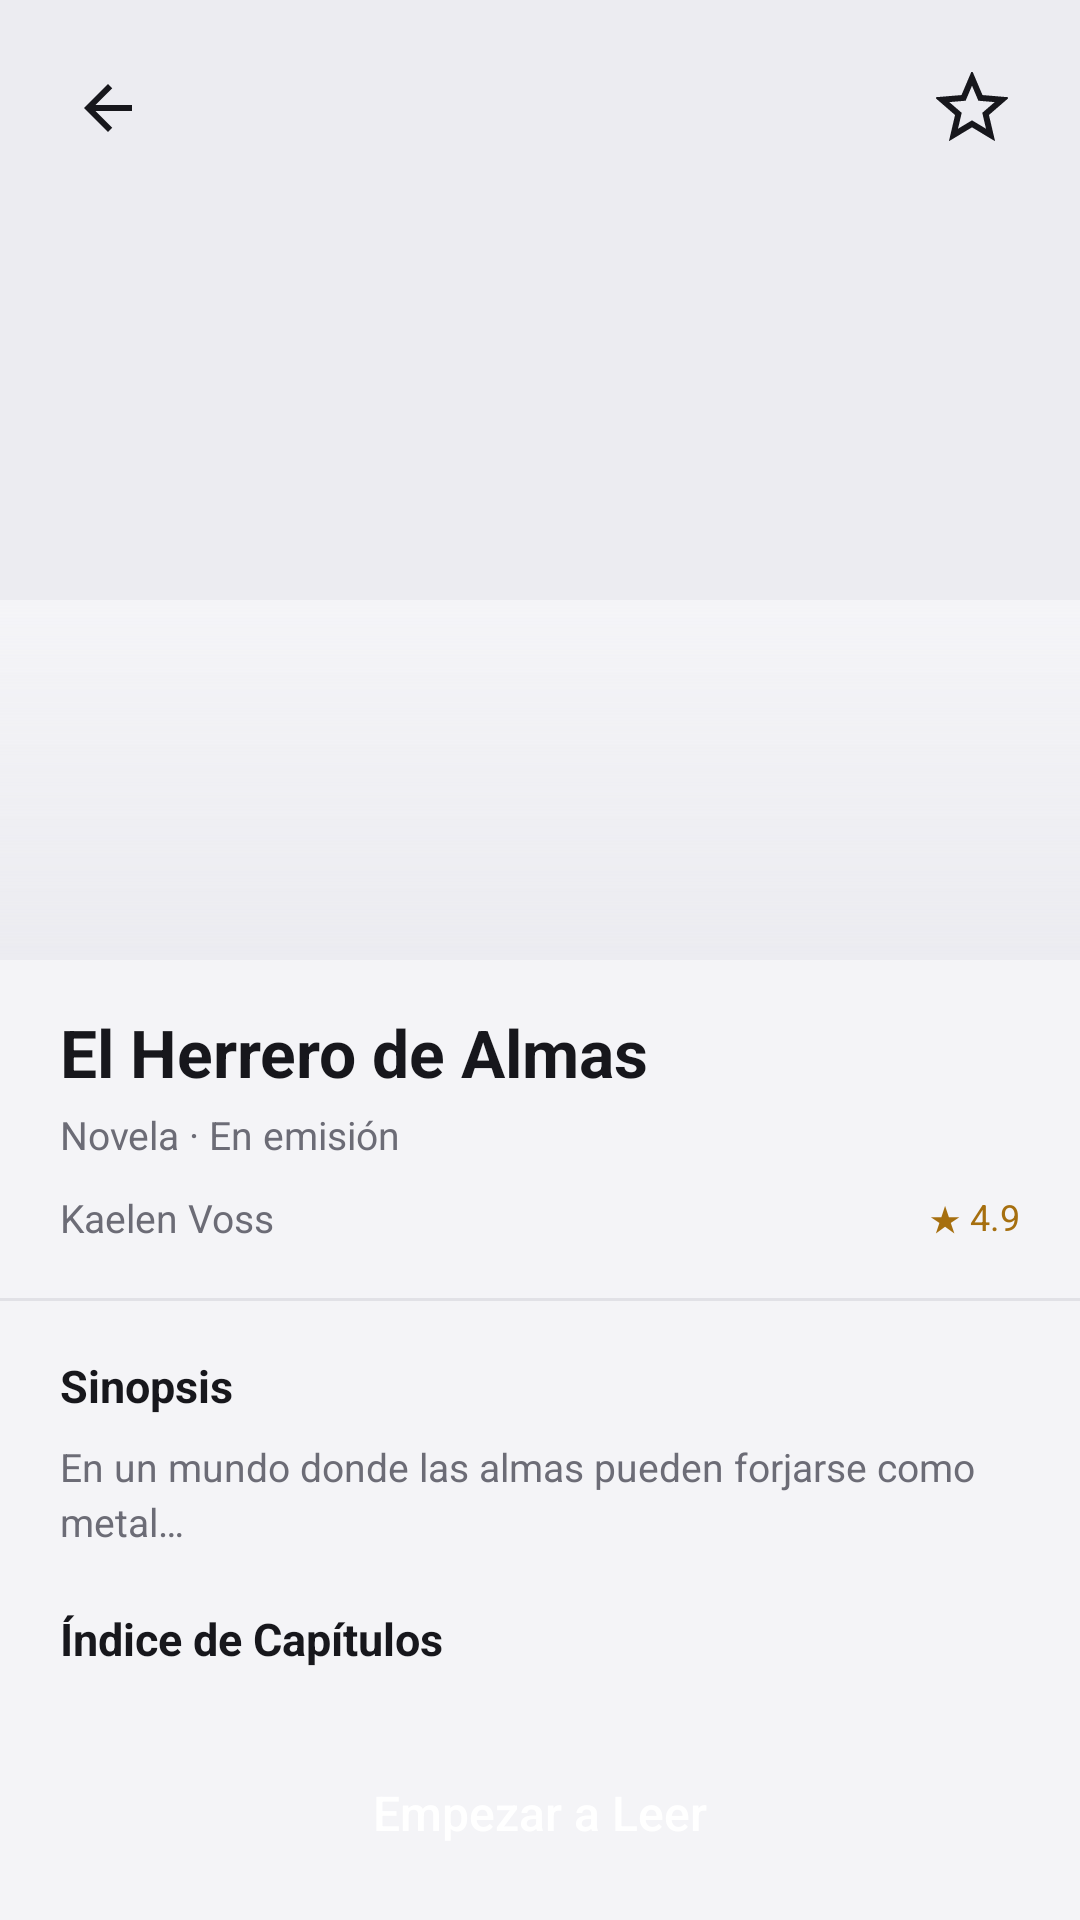

Locate icon controls on the screen. Image size 1080px×1920px, boxes as (x1, y1, x2, y2).
arrow back: (84, 84, 132, 132)
Dar estrella: (936, 72, 1008, 141)
